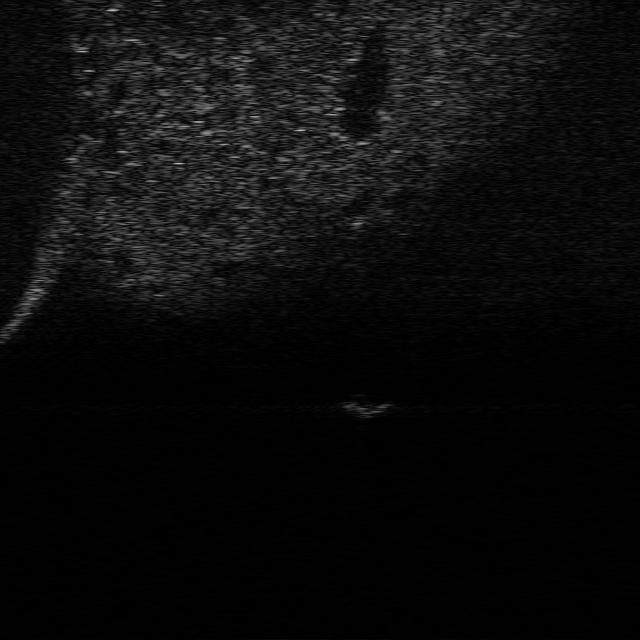cube: (335, 390, 395, 422)
